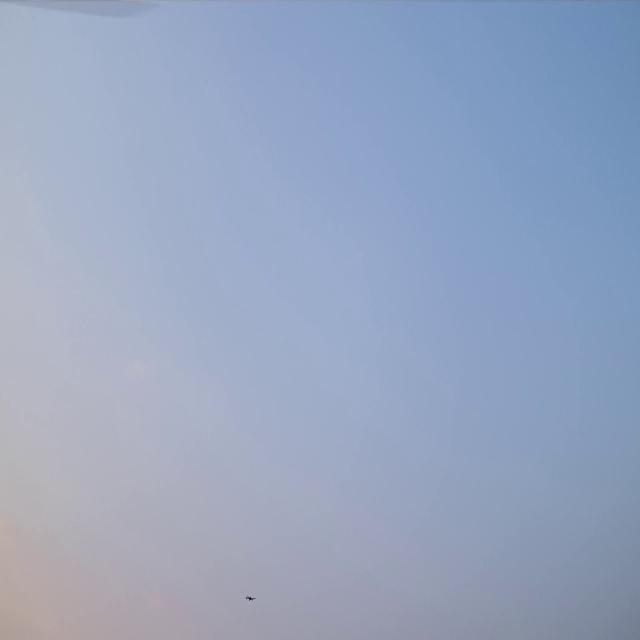UAV: (245, 594, 256, 603)
